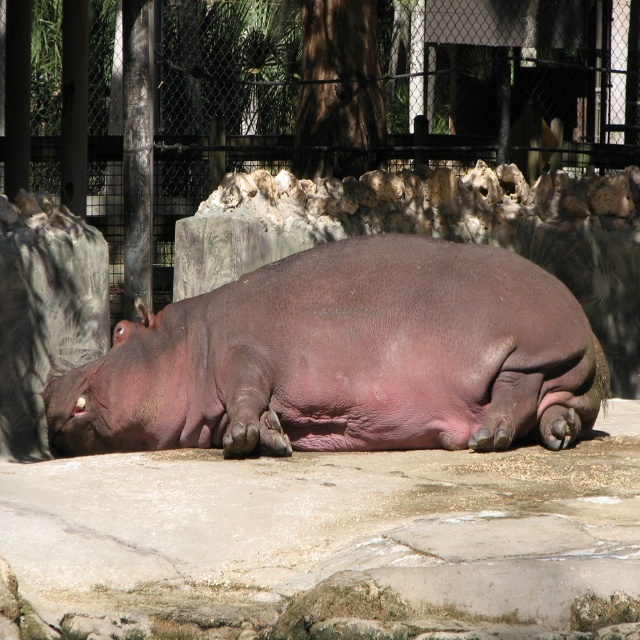Hippopotamus: (42, 227, 614, 459)
